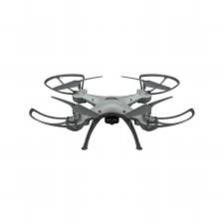drone: (26, 64, 200, 162)
